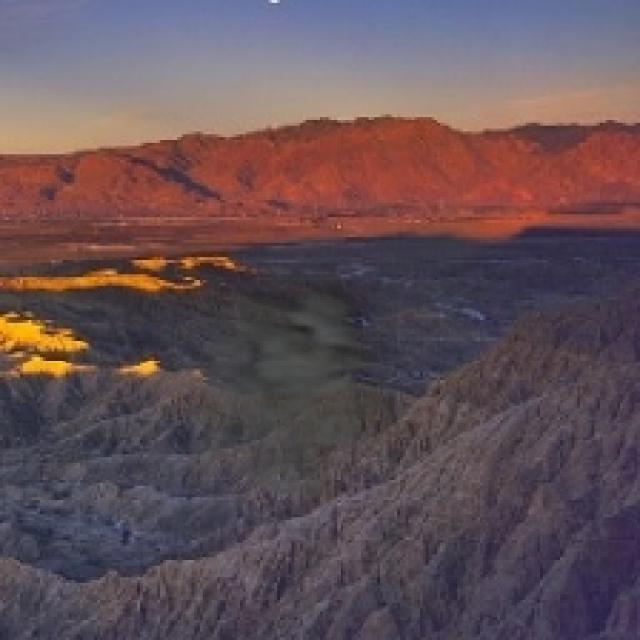smoke: (160, 274, 397, 497)
